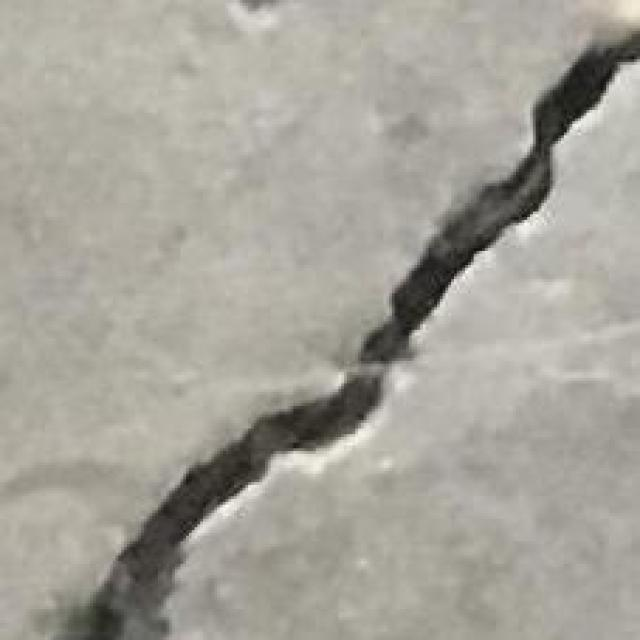diagonal crack: (63, 29, 639, 639)
